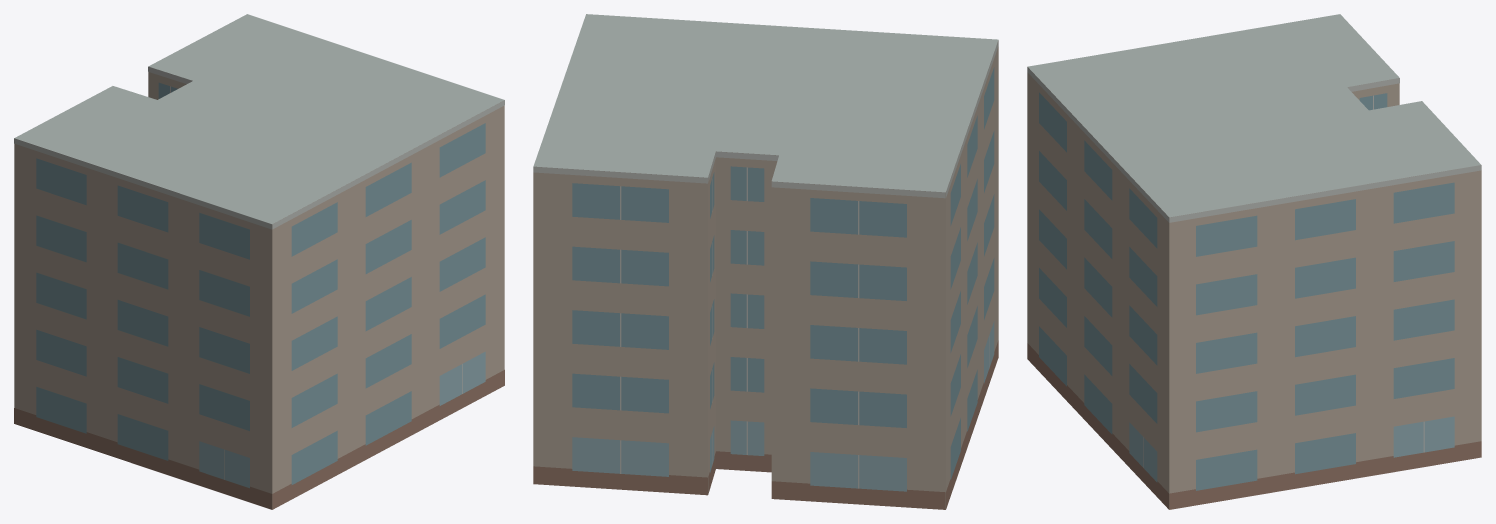
Rendered from survey-upis-32884174.glb.
3 renders of one model, left to right at view 1: azimuth 30°, elevation 25°; view 2: azimuth 150°, elevation 25°; view 3: azimuth 270°, elevation 25°, orthographic. The views are drawn at different scales.
Visible parts, largest first — view 1: survey-upis-32884174.tmp; view 2: survey-upis-32884174.tmp; view 3: survey-upis-32884174.tmp.
Part boxes in pixels (box(x1,y1,x2,y2)): survey-upis-32884174.tmp: box(14, 14, 504, 509); survey-upis-32884174.tmp: box(533, 14, 998, 509); survey-upis-32884174.tmp: box(1027, 14, 1481, 509).
Bounding box in the file's own units: 19.55 × 13.1 × 18.44.
